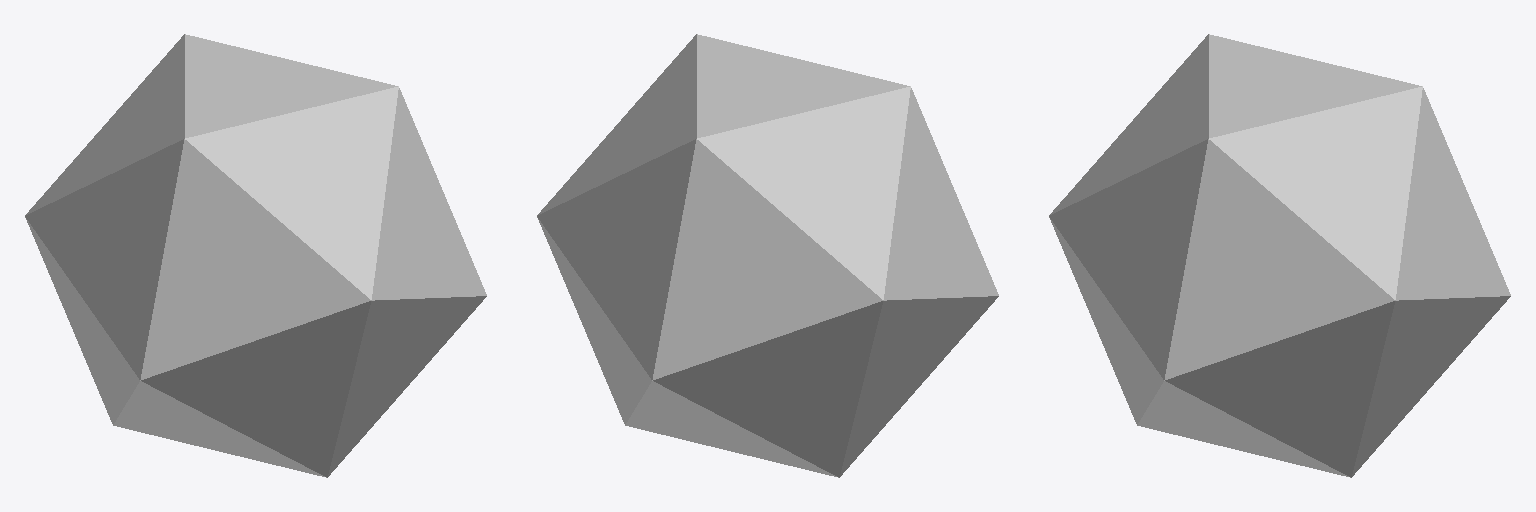
Rendered from 0_D20Empty.obj.
3 views of the same model, side by side, from view 1: azimuth 30°, elevation 25°; view 2: azimuth 150°, elevation 25°; view 3: azimuth 270°, elevation 25° (orthographic).
Parts seen in each view (by area): view 1: D20Empty_Solid.003; view 2: D20Empty_Solid.003; view 3: D20Empty_Solid.003.
Part boxes in pixels (bbox=[...]): D20Empty_Solid.003: bbox=[25, 34, 486, 477]; D20Empty_Solid.003: bbox=[537, 34, 998, 477]; D20Empty_Solid.003: bbox=[1049, 34, 1510, 477].
Bounding box in the file's own units: 3.21 × 3 × 3.71.